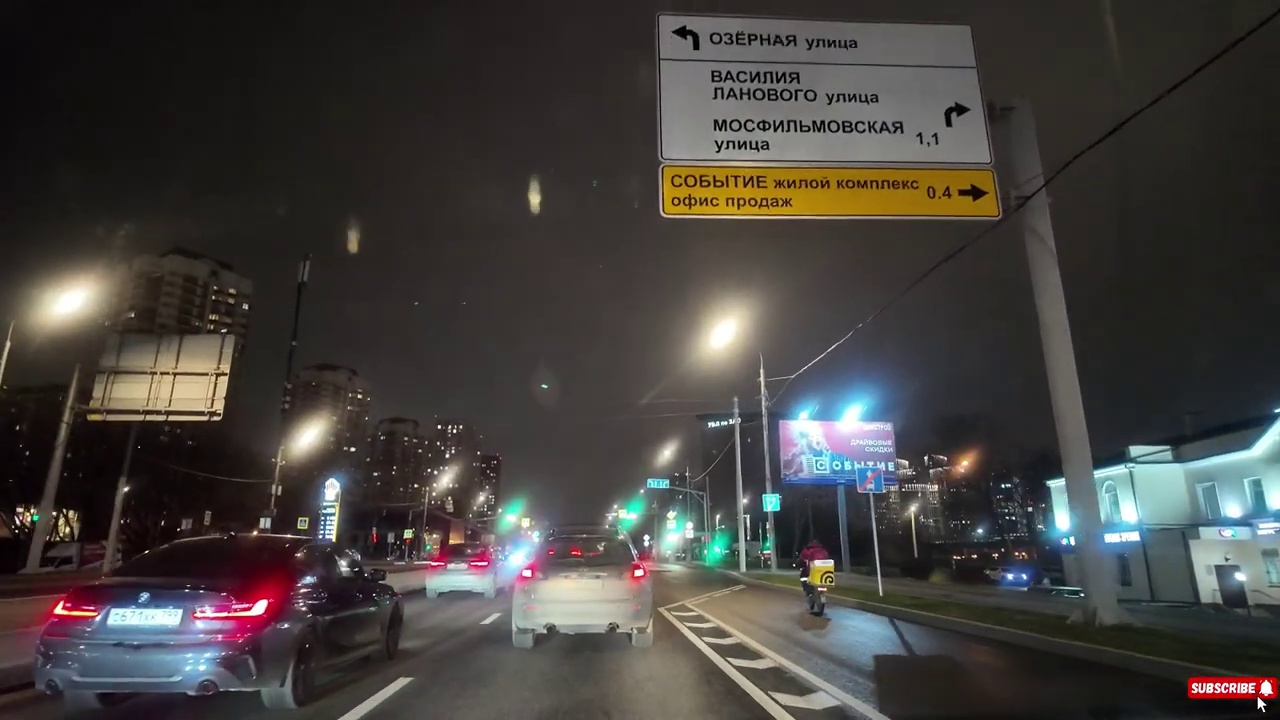acesa: (34, 278, 101, 333), (696, 305, 750, 362), (284, 414, 334, 463), (834, 400, 868, 435), (649, 437, 681, 471), (947, 447, 979, 477)
